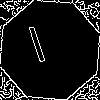I: (25, 25, 52, 73)
